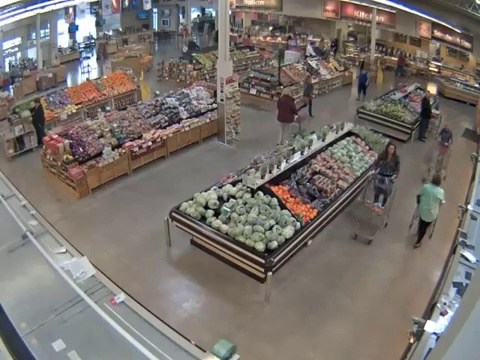face: (387, 144, 396, 154)
